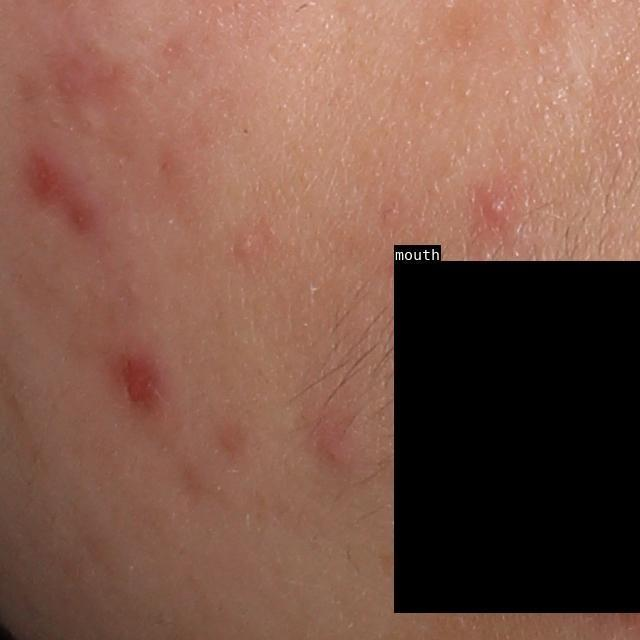papule: (310, 416, 367, 471), (24, 148, 68, 210), (481, 187, 515, 225), (229, 230, 264, 260)
